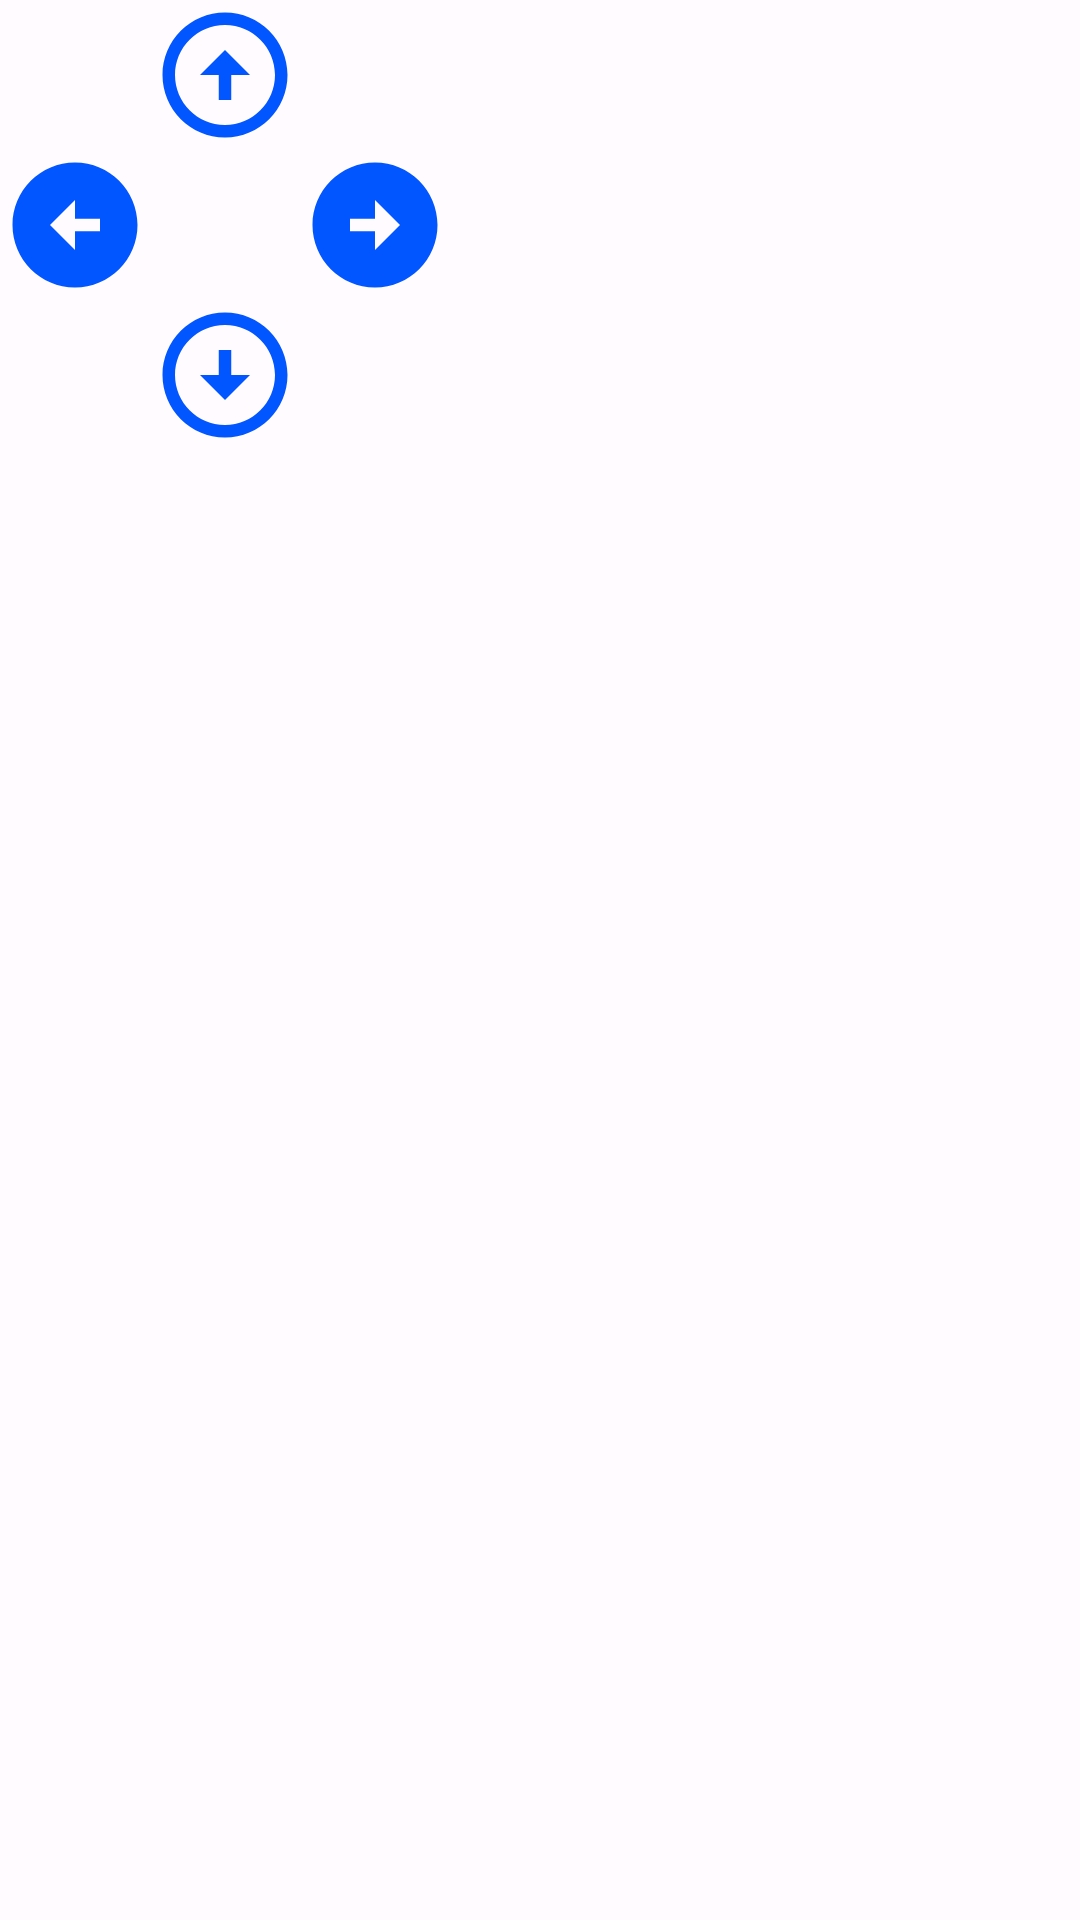

Screen size 1080*1920. Icon name, then its box in pixels as (x1, y1, x2, y2):
arrow circle down: (162, 312, 288, 438)
arrow circle left: (12, 162, 138, 288)
arrow circle right: (312, 162, 438, 288)
arrow circle up: (162, 12, 288, 138)
